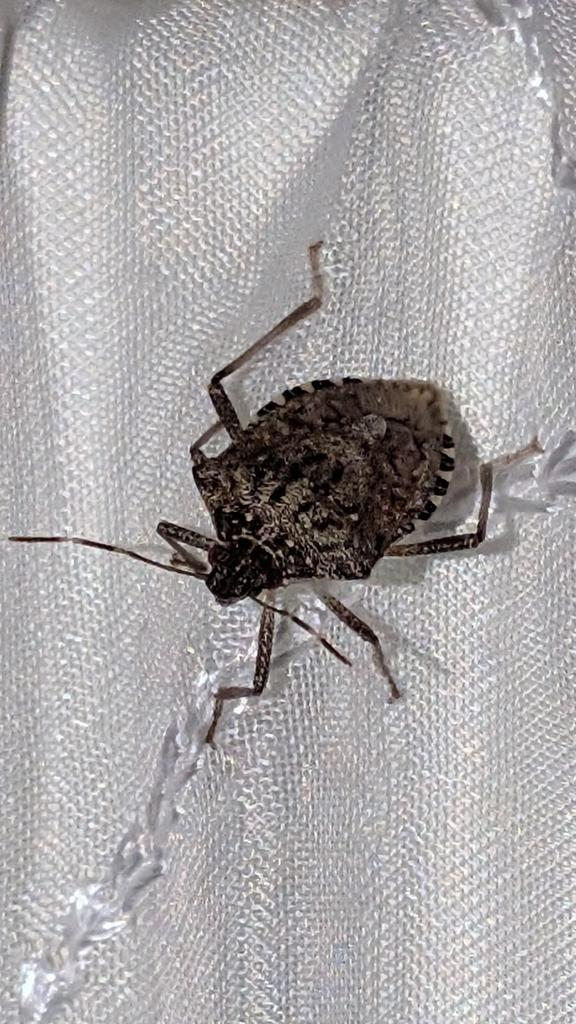stink_bugs: (0, 219, 576, 781)
